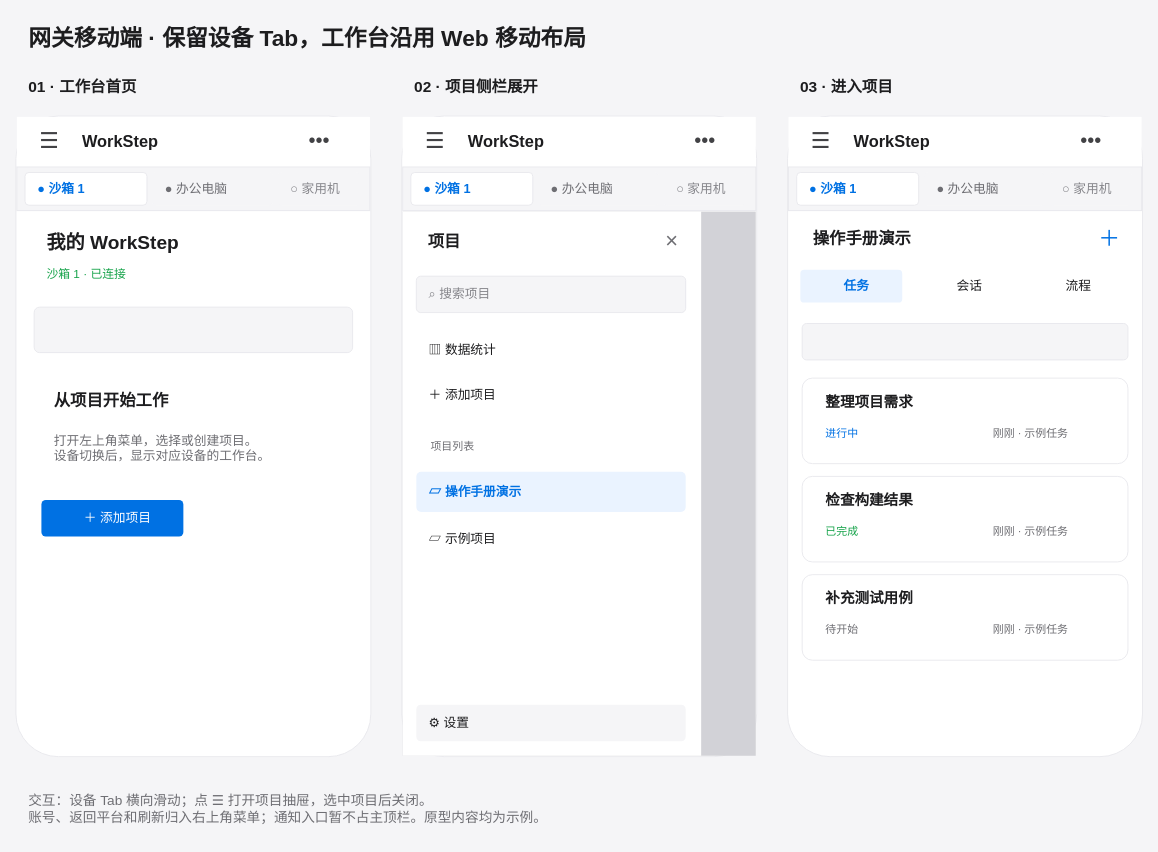
This 1158x852 diagram has some shape labels left out. Here are the shapes that lost their labels. From the top down, the box of each, then its label:
(33, 306, 353, 353): ☰ 选择项目
(801, 323, 1128, 360): ⌕ 搜索任务
